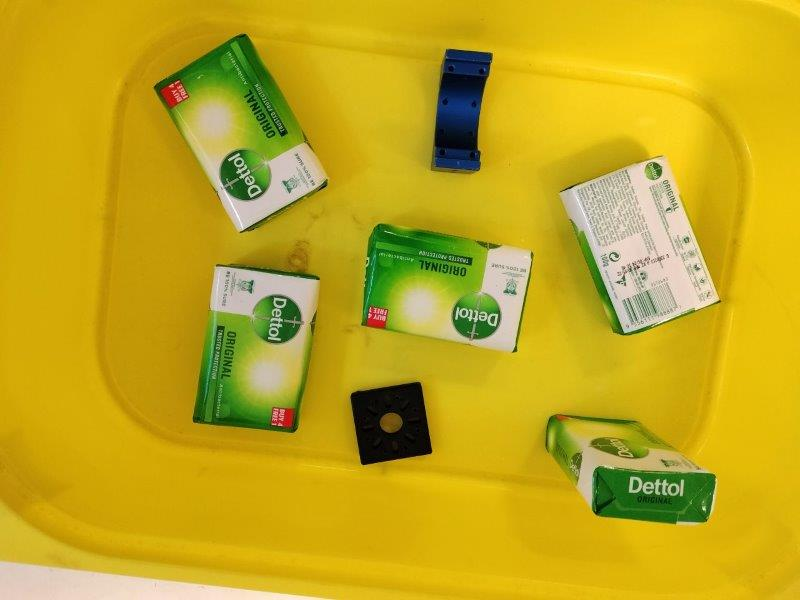Dettol: (155, 34, 329, 235), (560, 155, 721, 336), (360, 223, 535, 355), (192, 264, 320, 434), (545, 414, 717, 524)
